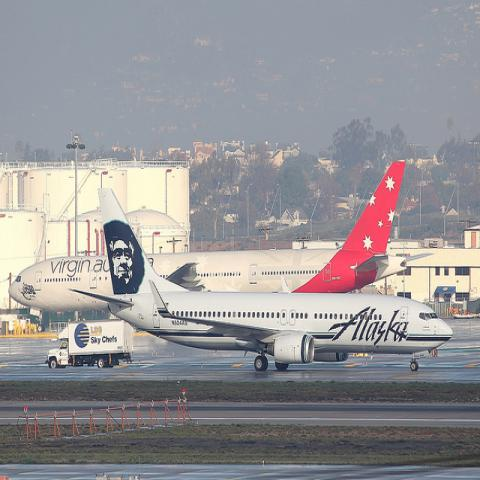truck: (45, 319, 134, 369)
